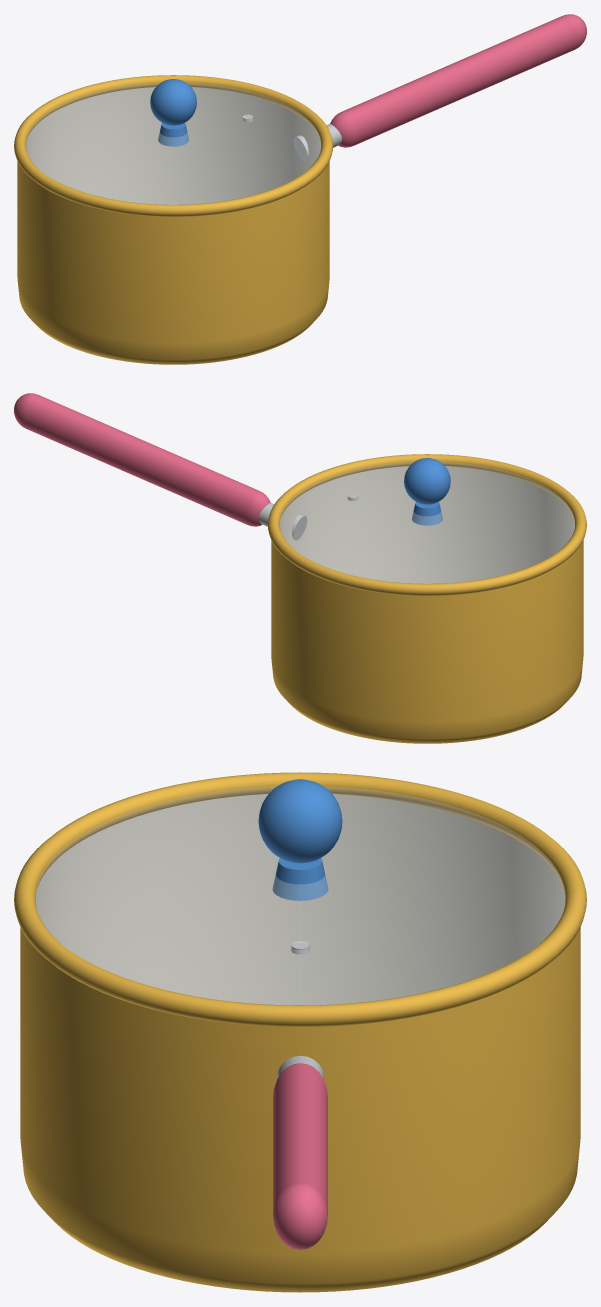
File: hej.glb
3 renders of one model, top to bottom at view 1: azimuth 30°, elevation 25°; view 2: azimuth 150°, elevation 25°; view 3: azimuth 270°, elevation 25°, orthographic. The views are drawn at different scales.
Parts seen in each view (by area): view 1: Shell, LidGlass, Interior, Handle, LidRim, Knob, KnobNeck, Bracket; view 2: Shell, LidGlass, Interior, Handle, LidRim, Knob, KnobNeck, Bracket; view 3: Shell, LidGlass, Interior, LidRim, Handle, Knob, KnobNeck.
Boxes of the visible parts, left/top/right/bottom form: Shell: left=17, top=161, right=329, bottom=364; LidGlass: left=26, top=83, right=320, bottom=204; Interior: left=26, top=87, right=320, bottom=204; Handle: left=330, top=14, right=586, bottom=147; LidRim: left=14, top=75, right=333, bottom=216; Knob: left=150, top=79, right=196, bottom=125; KnobNeck: left=158, top=123, right=188, bottom=146; Bracket: left=293, top=124, right=341, bottom=161; Shell: left=271, top=540, right=583, bottom=743; LidGlass: left=280, top=462, right=574, bottom=583; Interior: left=280, top=466, right=574, bottom=583; Handle: left=14, top=393, right=270, bottom=526; LidRim: left=267, top=454, right=586, bottom=595; Knob: left=404, top=458, right=450, bottom=504; KnobNeck: left=412, top=502, right=442, bottom=525; Bracket: left=259, top=503, right=307, bottom=540; Shell: left=20, top=927, right=580, bottom=1292; LidGlass: left=35, top=786, right=565, bottom=1004; Interior: left=35, top=794, right=565, bottom=1005; LidRim: left=14, top=772, right=586, bottom=1026; Handle: left=273, top=1063, right=327, bottom=1249; Knob: left=258, top=779, right=342, bottom=863; KnobNeck: left=272, top=858, right=328, bottom=900.
Size of the model in its own units: 0.3661 by 0.1428 by 0.184.
